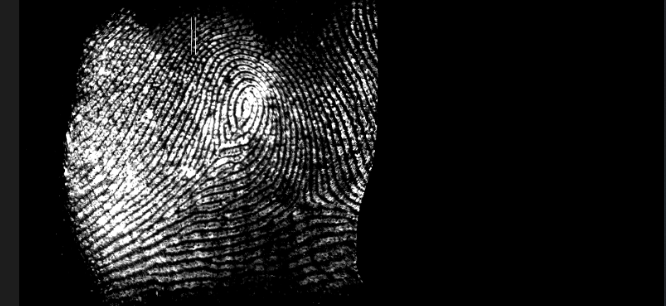deltas: (277, 179, 326, 221)
nucleo: (225, 79, 266, 136)
